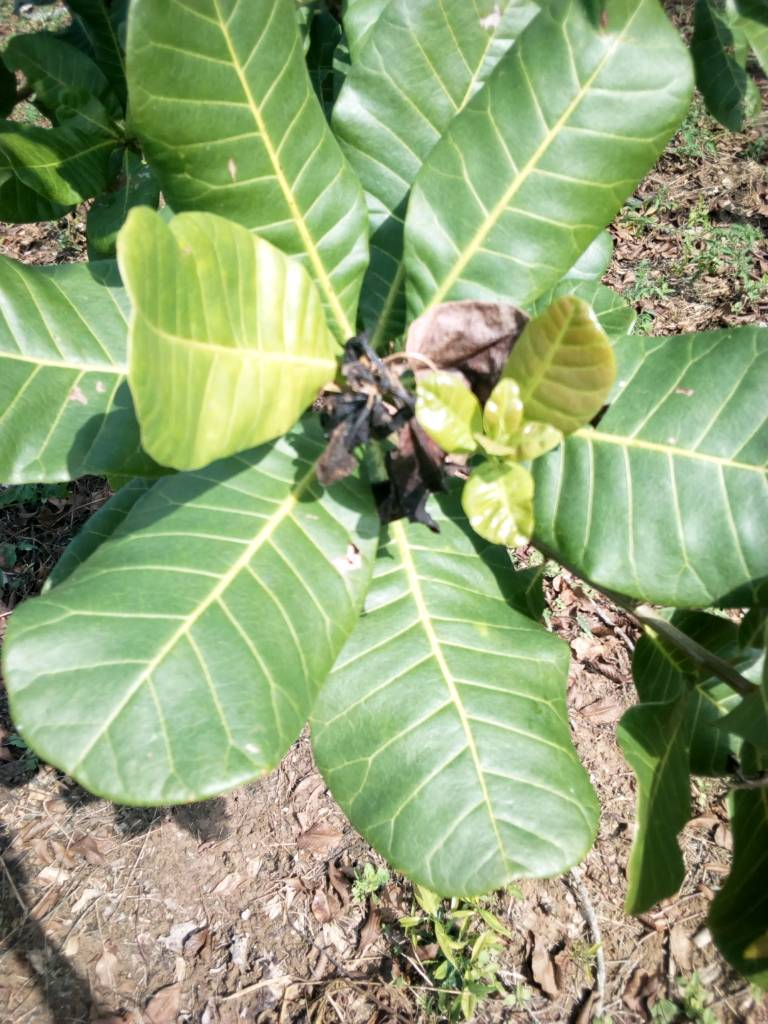Dessèchement des bourgeons: (315, 346, 425, 496)
